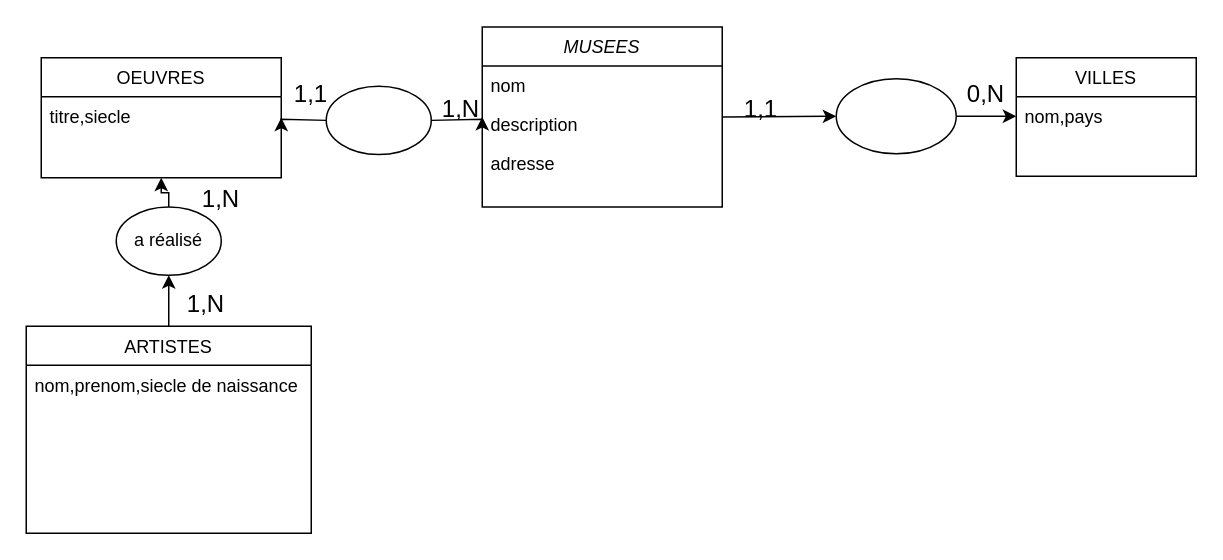
The diagram is 1223 pixels wide and 560 high, and some of its shapes have lost their labels. The shapes that lost their labels are listed below. From the top down, each one's centre as x and y in pixels, then its label:
[378,119]: expose
[895,115]: est situé
